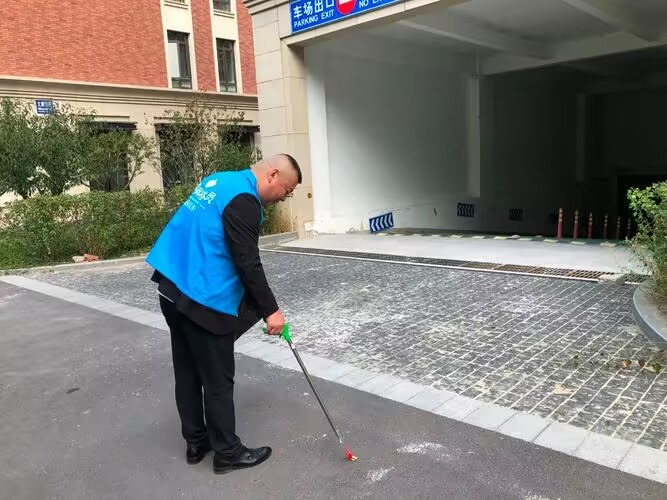bending: (147, 143, 310, 478)
